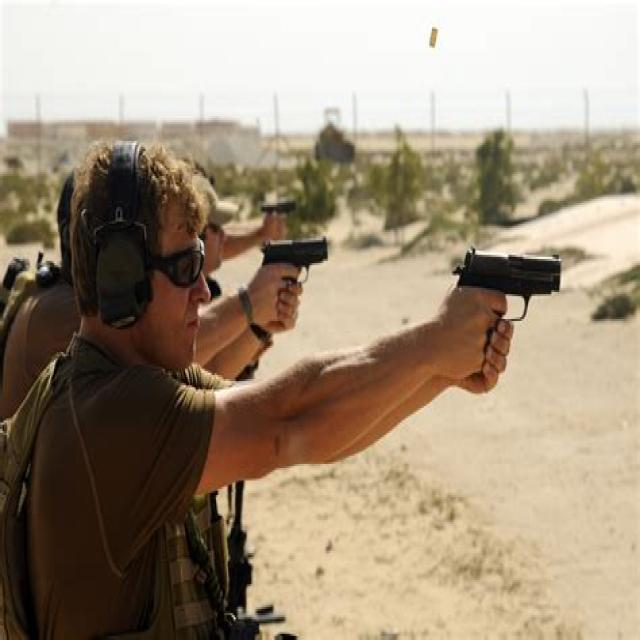weapons: (446, 236, 576, 386), (250, 231, 344, 332)
